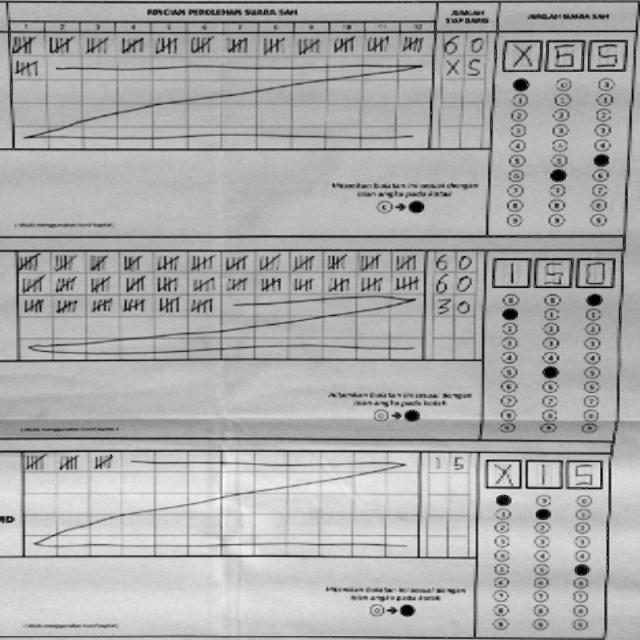Suara: (487, 252, 618, 291), (478, 453, 609, 492), (500, 36, 630, 75)
